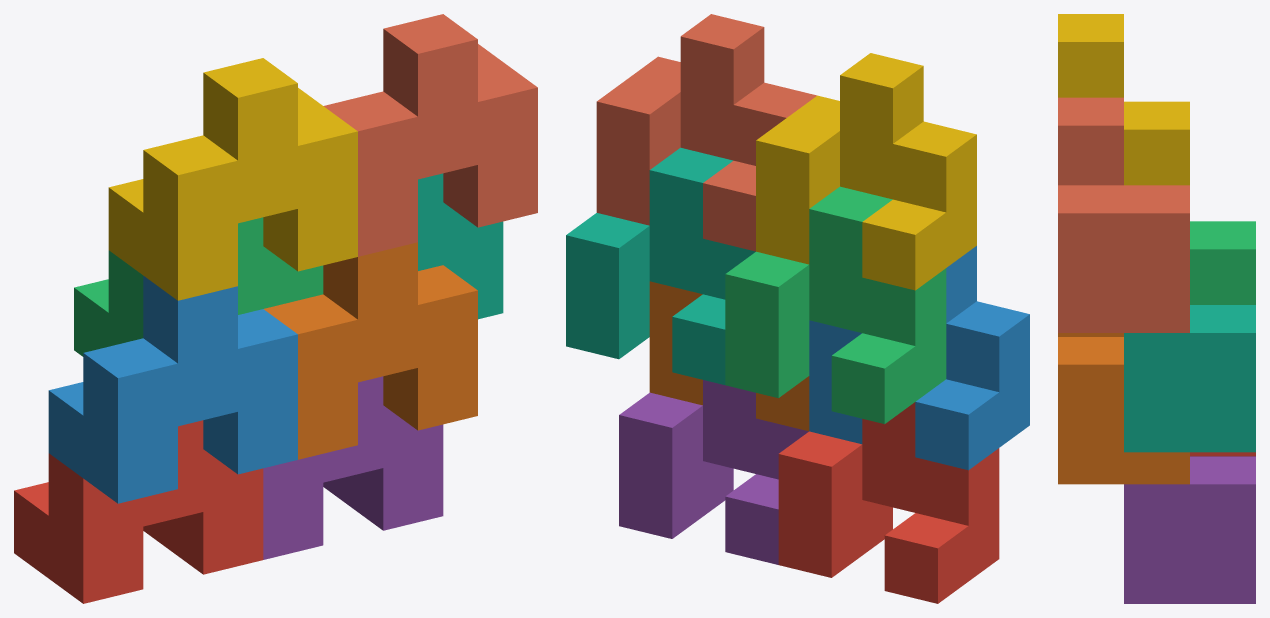
Rendered from tiling.obj.
The picture shows the model from 3 angles, left to right: view 1: azimuth 30°, elevation 25°; view 2: azimuth 150°, elevation 25°; view 3: azimuth 270°, elevation 25°; orthographic projection. The views are drawn at different scales.
Visible parts, largest first — view 1: copy_1_domain_4, copy_1_domain_2, copy_1_domain_8, copy_1_domain_6, copy_1_domain_1, copy_1_domain_5, copy_1_domain_3, copy_1_domain_7; view 2: copy_1_domain_4, copy_1_domain_3, copy_1_domain_1, copy_1_domain_8, copy_1_domain_7, copy_1_domain_5, copy_1_domain_2, copy_1_domain_6; view 3: copy_1_domain_8, copy_1_domain_5, copy_1_domain_7, copy_1_domain_6, copy_1_domain_4, copy_1_domain_3, copy_1_domain_1.
Part boxes in pixels (x1,y1,x2,y2): copy_1_domain_4: (108,58,357,300); copy_1_domain_2: (48,276,297,503); copy_1_domain_8: (323,14,537,256); copy_1_domain_6: (264,242,477,459); copy_1_domain_1: (14,420,263,603); copy_1_domain_5: (263,376,443,559); copy_1_domain_3: (74,217,323,356); copy_1_domain_7: (418,173,503,319); copy_1_domain_4: (756,53,976,290); copy_1_domain_3: (725,186,946,423); copy_1_domain_1: (778,402,999,603); copy_1_domain_8: (596,14,816,251); copy_1_domain_7: (566,147,755,384); copy_1_domain_5: (619,380,808,564); copy_1_domain_2: (809,246,1029,470); copy_1_domain_6: (649,281,809,431); copy_1_domain_8: (1058,97,1189,332); copy_1_domain_5: (1124,456,1255,603); copy_1_domain_7: (1124,305,1255,452); copy_1_domain_6: (1058,333,1189,484); copy_1_domain_4: (1058,14,1189,185); copy_1_domain_3: (1190,221,1255,304); copy_1_domain_1: (1190,452,1255,456).
Bounding box in the file's own units: 7 × 8 × 3.
